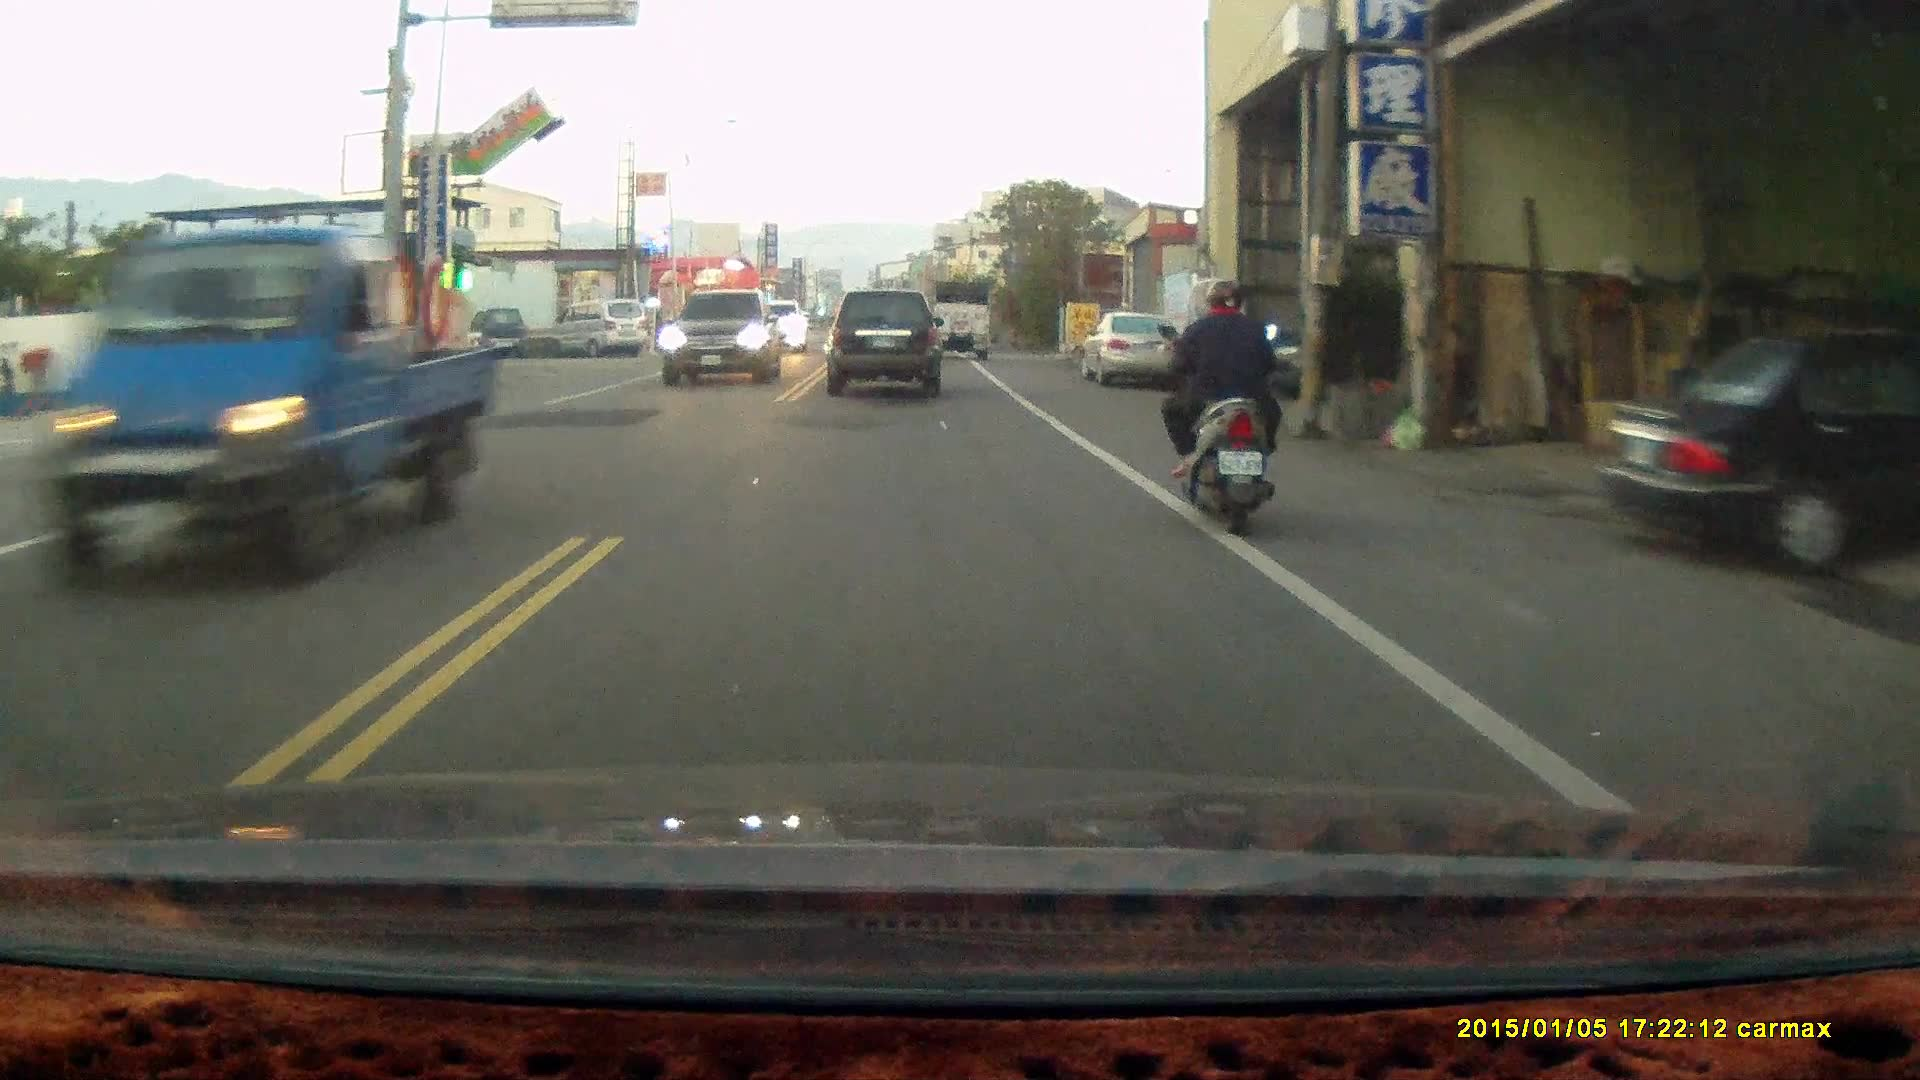rider: (1154, 271, 1283, 535)
vehicle: (39, 223, 484, 587), (1603, 314, 1920, 582), (659, 287, 788, 389), (827, 289, 943, 398), (1081, 312, 1177, 386), (927, 269, 996, 350), (556, 298, 649, 357)
